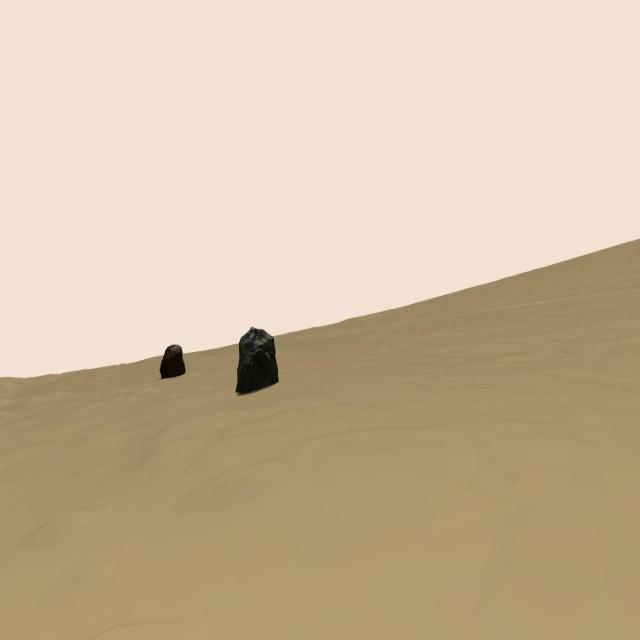rock: (236, 324, 279, 394), (160, 343, 185, 379)
